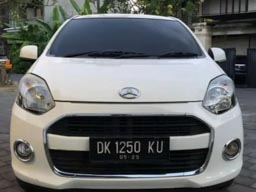plat: (91, 137, 168, 154)
